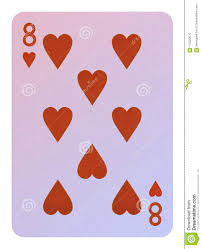eight of hearts: (11, 12, 172, 237)
